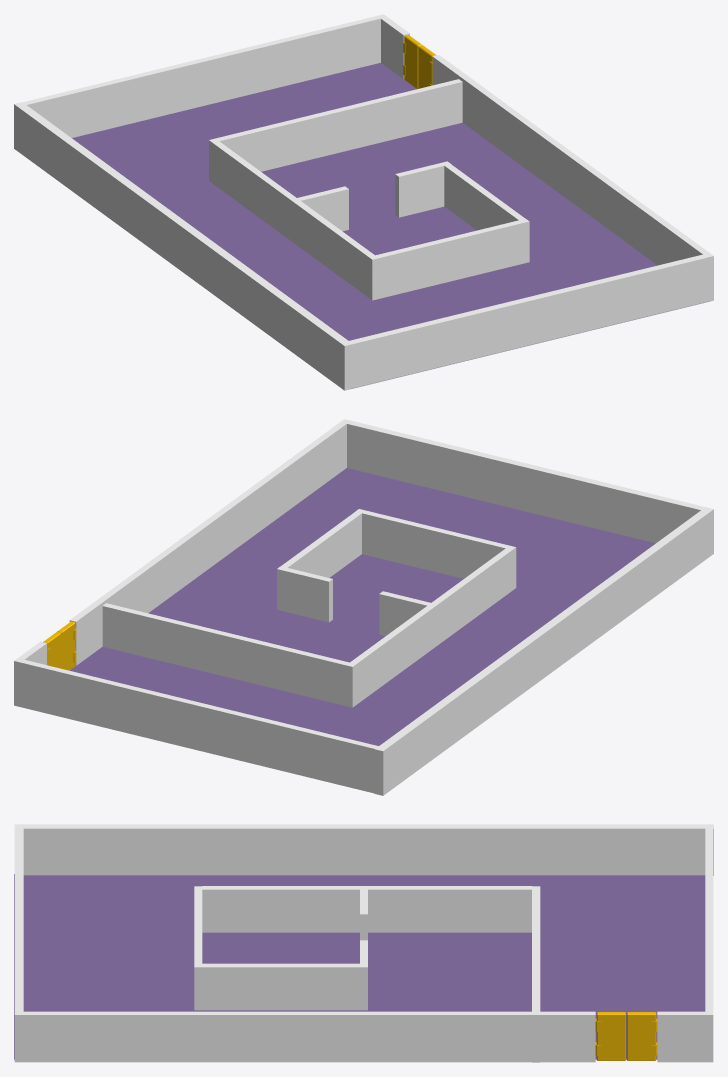
The model's file is maps_91.fbx.
The picture shows the model from 3 angles, top to bottom: view 1: azimuth 30°, elevation 25°; view 2: azimuth 150°, elevation 25°; view 3: azimuth 270°, elevation 25°; orthographic projection. The views are drawn at different scales.
Visible parts, largest first — view 1: wall_01_08_geo, wall_01_07_geo, wall_01_05_geo, wall_01_09_geo, wall_01_06_geo, wall_01_09_geo9, wall_01_09_geo13, wall_01_09_geo14, wall_01_09_geo15, wall_01_09_geo16, wall_01_09_geo17, wall_01_06_geo1 (+2 smaller); view 2: wall_01_08_geo, wall_01_07_geo, wall_01_09_geo, wall_01_05_geo, wall_01_06_geo, wall_01_09_geo9, wall_01_09_geo13, wall_01_09_geo14, wall_01_09_geo15, wall_01_09_geo16, wall_01_09_geo17, wall_01_06_geo1 (+1 smaller); view 3: wall_01_08_geo, wall_01_07_geo, wall_01_06_geo, wall_01_09_geo13, wall_01_09_geo15, wall_01_06_geo1, wall_01_05_geo, wall_01_09_geo, polySurface161, polySurface165, wall_01_09_geo9, wall_01_09_geo14 (+2 smaller).
Part boxes in pixels (<box>): wall_01_08_geo: <box>72,63,709,388</box>; wall_01_07_geo: <box>14,102,352,390</box>; wall_01_05_geo: <box>349,254,707,388</box>; wall_01_09_geo: <box>23,16,380,137</box>; wall_01_06_geo: <box>432,55,713,301</box>; wall_01_09_geo9: <box>209,79,462,183</box>; wall_01_09_geo13: <box>212,141,374,297</box>; wall_01_09_geo14: <box>368,218,529,300</box>; wall_01_09_geo15: <box>444,164,524,230</box>; wall_01_09_geo16: <box>395,161,450,217</box>; wall_01_09_geo17: <box>297,186,348,231</box>; wall_01_06_geo1: <box>377,14,409,79</box>; wall_01_08_geo: <box>70,468,655,745</box>; wall_01_07_geo: <box>374,507,713,795</box>; wall_01_09_geo: <box>20,660,378,793</box>; wall_01_05_geo: <box>347,420,705,543</box>; wall_01_06_geo: <box>69,419,350,665</box>; wall_01_09_geo9: <box>102,603,356,707</box>; wall_01_09_geo13: <box>350,548,512,704</box>; wall_01_09_geo14: <box>355,509,516,590</box>; wall_01_09_geo15: <box>281,511,361,577</box>; wall_01_09_geo16: <box>277,566,332,622</box>; wall_01_09_geo17: <box>379,591,431,636</box>; wall_01_06_geo1: <box>14,641,46,706</box>; wall_01_08_geo: <box>14,874,705,1059</box>; wall_01_07_geo: <box>14,824,713,875</box>; wall_01_06_geo: <box>14,1011,595,1062</box>; wall_01_09_geo13: <box>202,886,532,932</box>; wall_01_09_geo15: <box>202,963,360,1010</box>; wall_01_06_geo1: <box>657,1011,713,1062</box>; wall_01_05_geo: <box>14,828,23,1011</box>; wall_01_09_geo: <box>705,828,713,1011</box>; polySurface161: <box>626,1012,657,1060</box>; polySurface165: <box>595,1012,625,1060</box>; wall_01_09_geo9: <box>532,886,540,1062</box>; wall_01_09_geo14: <box>194,886,202,1010</box>.
Bounding box in the file's own units: 76.85 × 9.55 × 119.
2 materials, 2 textured.
